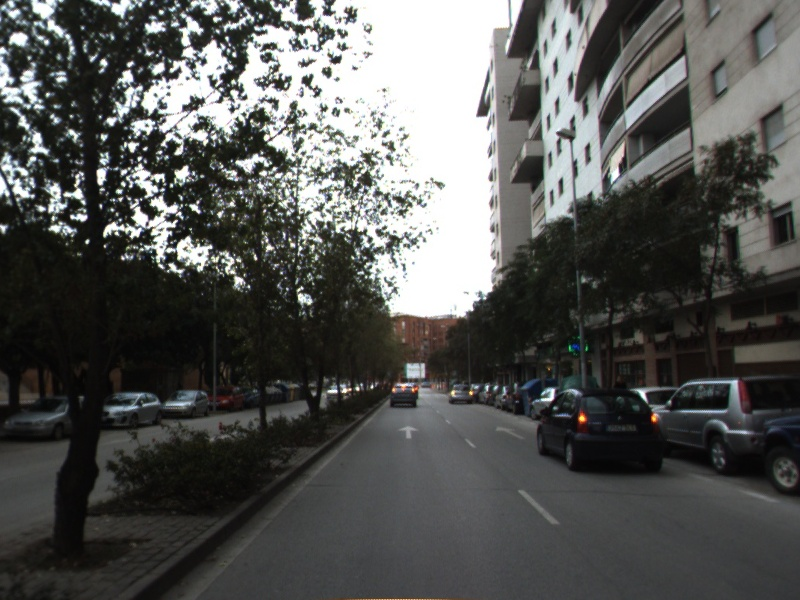STRAIGHT: (493, 424, 528, 441), (396, 424, 422, 441)
